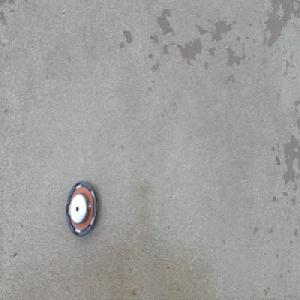FuelCap: (65, 178, 98, 240)
